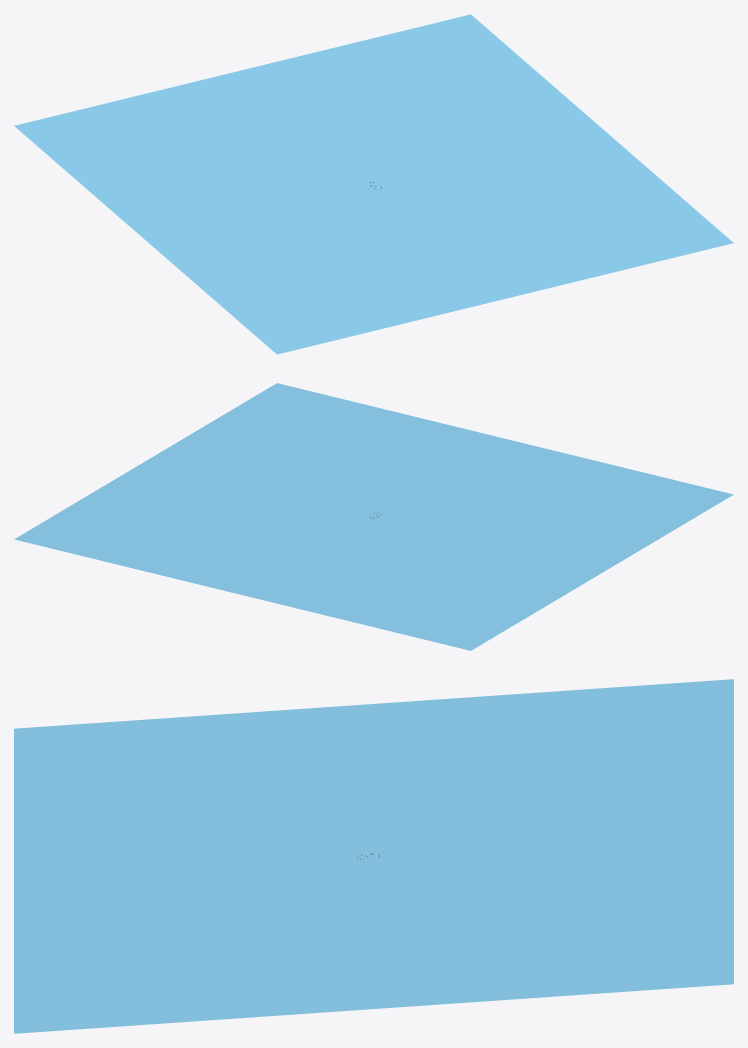
3 views of the same model, one above another, from view 1: azimuth 30°, elevation 25°; view 2: azimuth 150°, elevation 25°; view 3: azimuth 270°, elevation 25° (orthographic). The views are drawn at different scales.
Parts seen in each view (by area): view 1: Fog; view 2: Fog; view 3: Fog.
Part boxes in pixels (left/top/right/bottom): Fog: left=14, top=14, right=733, bottom=354; Fog: left=14, top=383, right=733, bottom=650; Fog: left=14, top=679, right=733, bottom=1033.
Size of the model in its own units: 1000 by 75.67 by 997.
